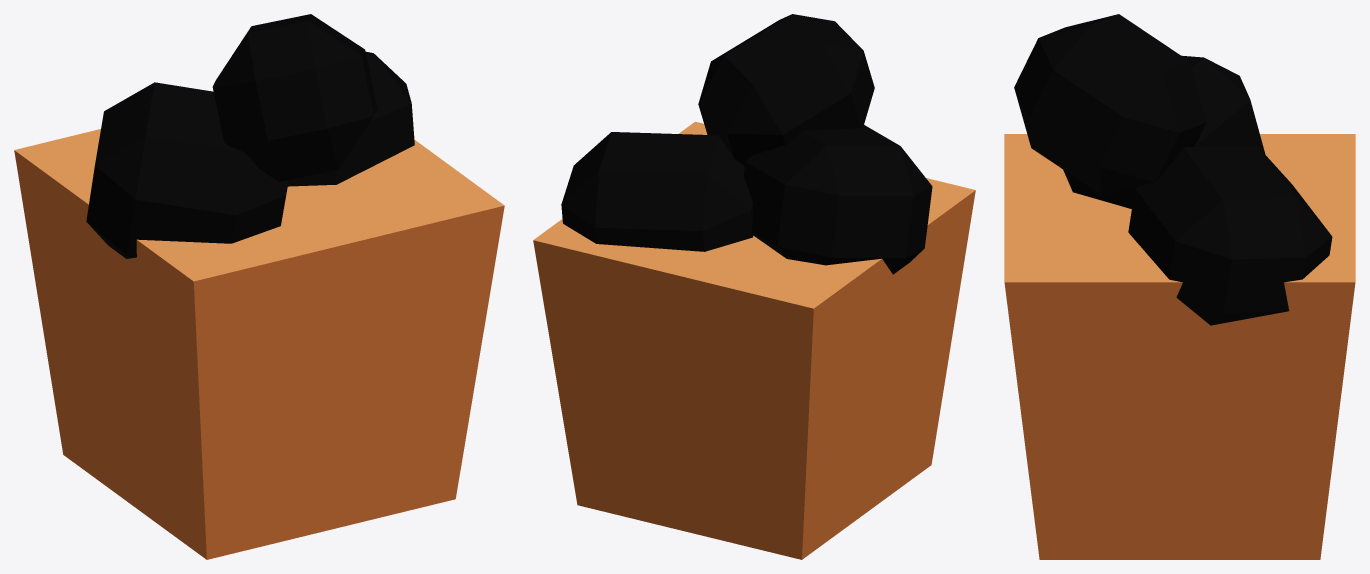
File: Item_karaage.fbx
The picture shows the model from 3 angles, left to right: view 1: azimuth 30°, elevation 25°; view 2: azimuth 150°, elevation 25°; view 3: azimuth 270°, elevation 25°; orthographic projection. The views are drawn at different scales.
Visible parts, largest first — view 1: Box, Nuggets; view 2: Box, Nuggets; view 3: Box, Nuggets.
Boxes of the visible parts, left/top/right/bottom form: Box: left=14, top=129, right=504, bottom=559; Nuggets: left=86, top=14, right=414, bottom=258; Box: left=533, top=121, right=975, bottom=559; Nuggets: left=561, top=14, right=932, bottom=274; Box: left=1004, top=134, right=1355, bottom=559; Nuggets: left=1014, top=14, right=1332, bottom=325.
Bounding box in the file's own units: 0.1056 × 0.1432 × 0.0955.
